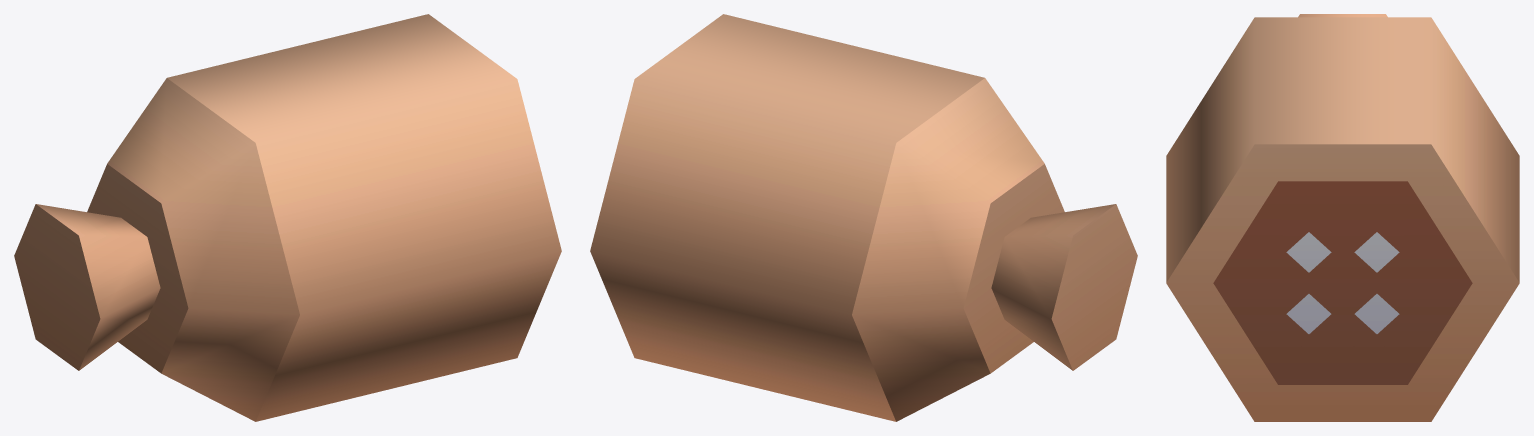
Rendered from sausage-half.glb.
3 views of the same model, side by side, from view 1: azimuth 30°, elevation 25°; view 2: azimuth 150°, elevation 25°; view 3: azimuth 270°, elevation 25° (orthographic).
Visible parts, largest first — view 1: sausage-half; view 2: sausage-half; view 3: sausage-half.
Part boxes in pixels (x1=…): sausage-half: x1=14, y1=14, x2=561, y2=421; sausage-half: x1=590, y1=14, x2=1137, y2=421; sausage-half: x1=1166, y1=14, x2=1519, y2=421.
Size of the model in its own units: 0.1853 by 0.1189 by 0.1373.
Materials: 1 (1 with a texture image).
